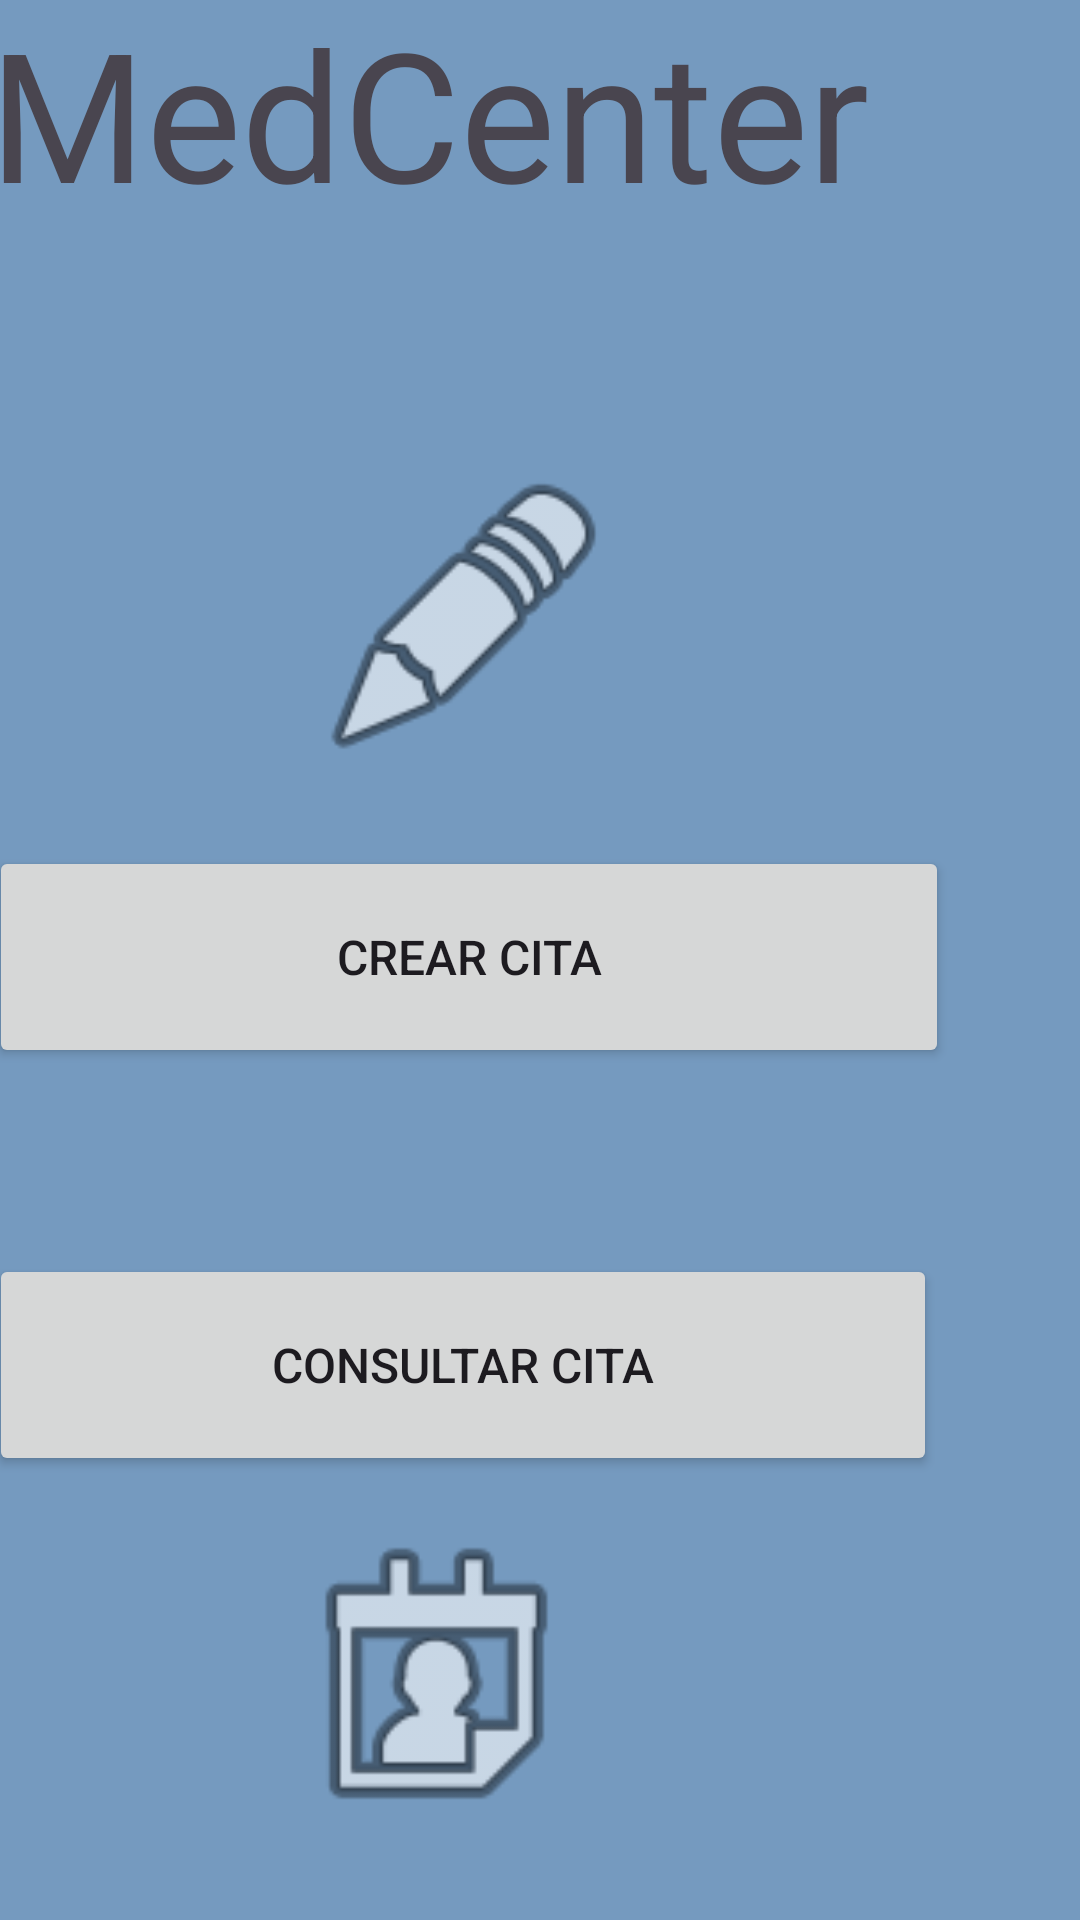

Icons on this 1080px×1920px Android screen, each with the point to tap as (x=x, y=y):
calendar: (x=436, y=1673)
edit: (x=464, y=616)
